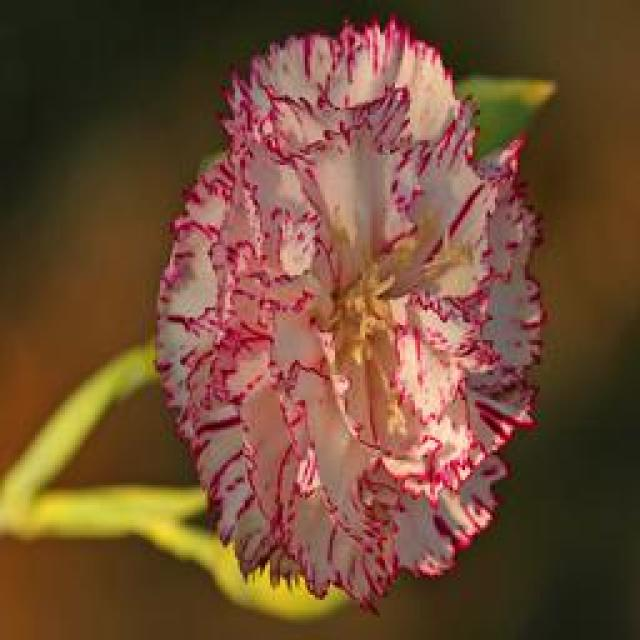carnation: (169, 29, 566, 634)
